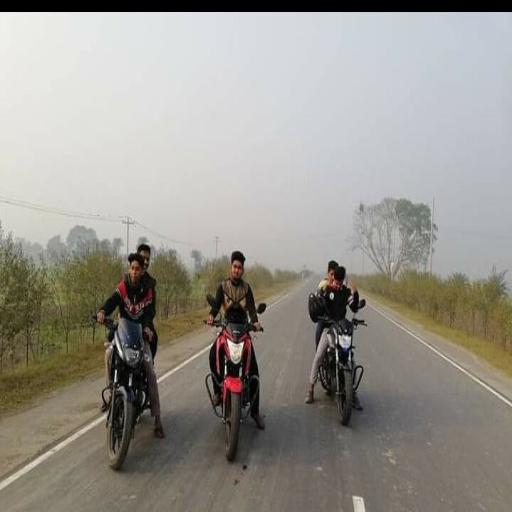overloading: (84, 232, 374, 472)
